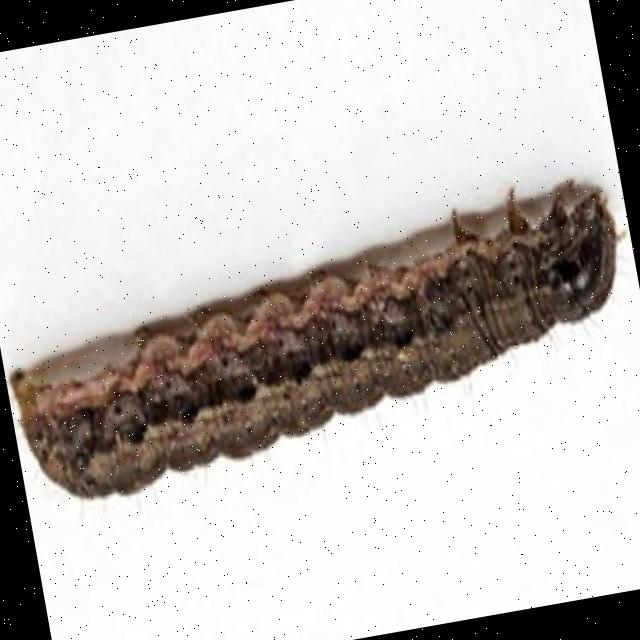worm: (1, 168, 640, 516)
